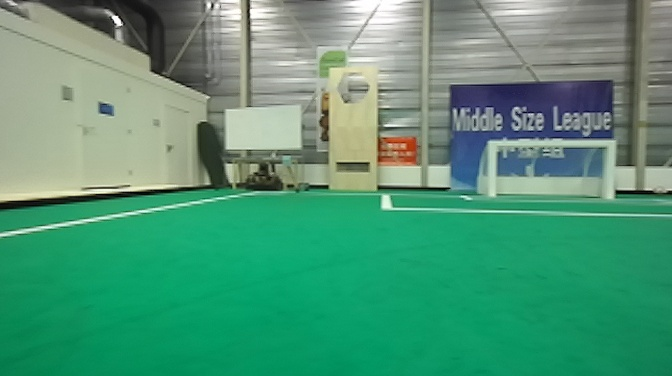ball: (647, 183, 666, 198)
goalpost: (601, 138, 620, 205), (485, 140, 503, 196)
